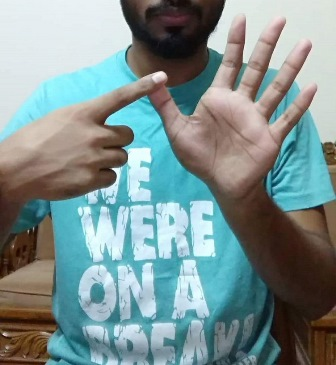a: (67, 13, 318, 196)
